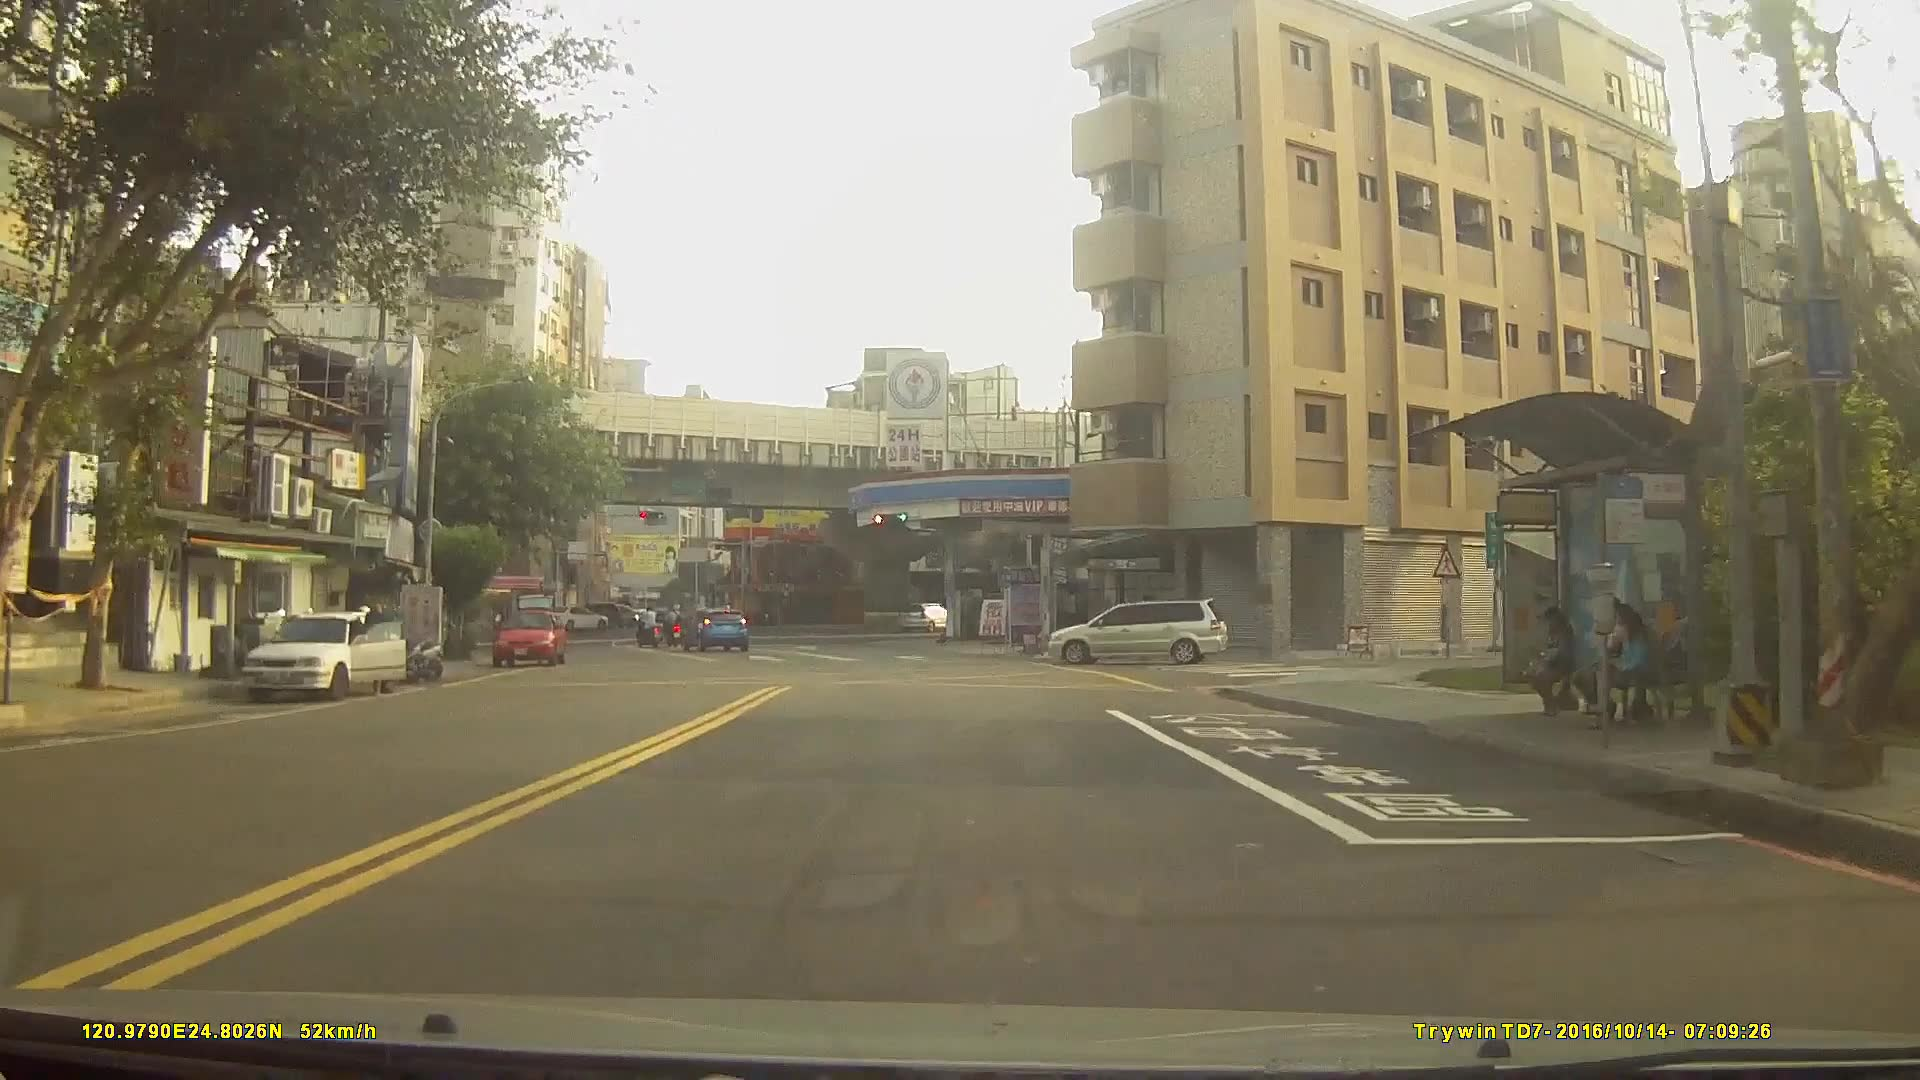pedestrian: (1525, 607, 1584, 715), (1611, 595, 1644, 732)
rider: (634, 604, 664, 650)
vehicle: (236, 609, 409, 704), (1042, 599, 1229, 665), (489, 604, 564, 664), (677, 608, 751, 653), (563, 601, 622, 631), (895, 598, 952, 629), (543, 604, 608, 631)
